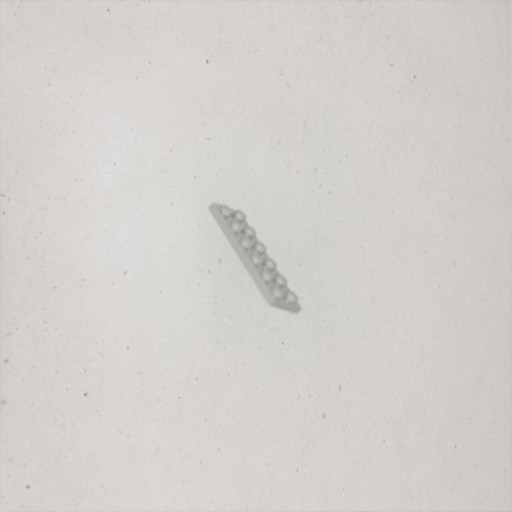lego: (207, 202, 303, 315)
